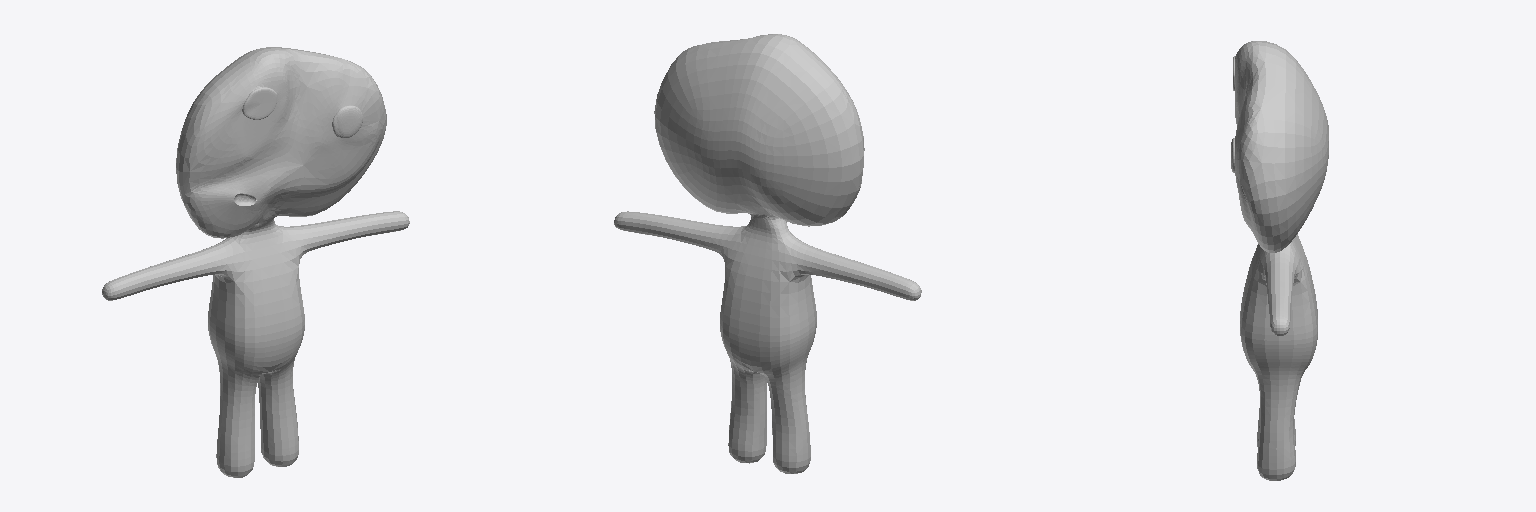
Rendered from kodama.obj.
3 renders of one model, left to right at view 1: azimuth 30°, elevation 25°; view 2: azimuth 150°, elevation 25°; view 3: azimuth 270°, elevation 25°, orthographic.
Parts seen in each view (by area): view 1: kodama_Cube.001, eye2_Cube.009, eye1_Cube.008; view 2: kodama_Cube.001; view 3: kodama_Cube.001.
Boxes of the visible parts, x1,y1,x2,y2 form: kodama_Cube.001: [102, 47, 409, 477]; eye2_Cube.009: [242, 87, 276, 119]; eye1_Cube.008: [332, 105, 362, 137]; kodama_Cube.001: [614, 34, 921, 473]; kodama_Cube.001: [1235, 41, 1328, 480].
Bounding box in the file's own units: 6.06 × 8.06 × 1.7.